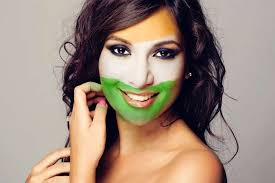indian_female: (89, 1, 204, 133)
